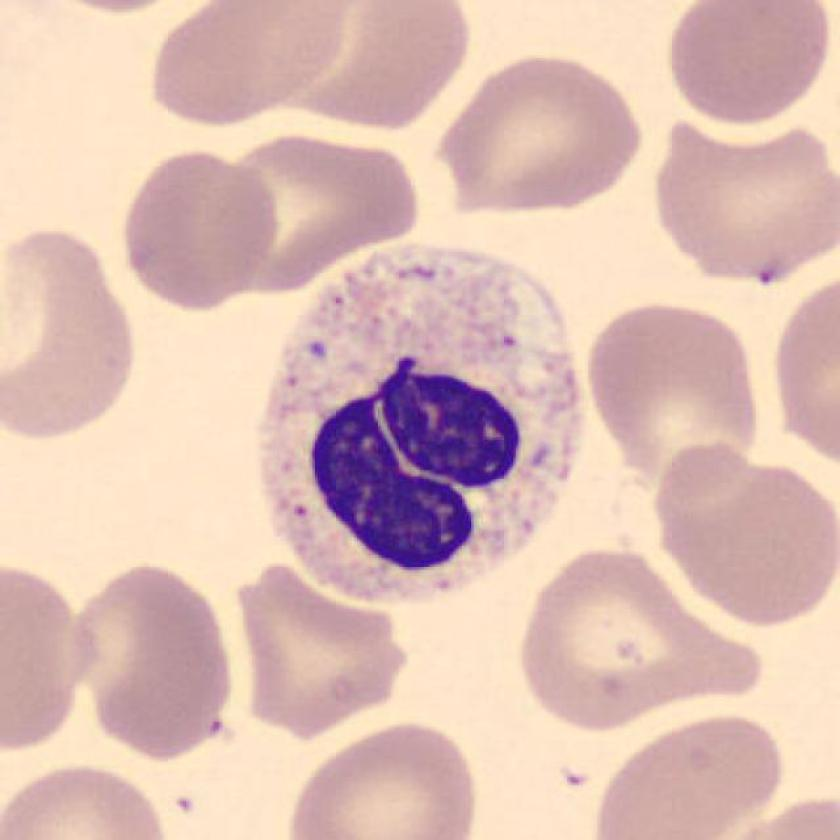neutrophil: (260, 244, 580, 601)
